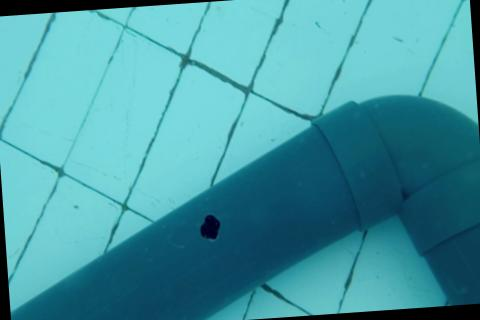kebocoran: (196, 210, 223, 244)
